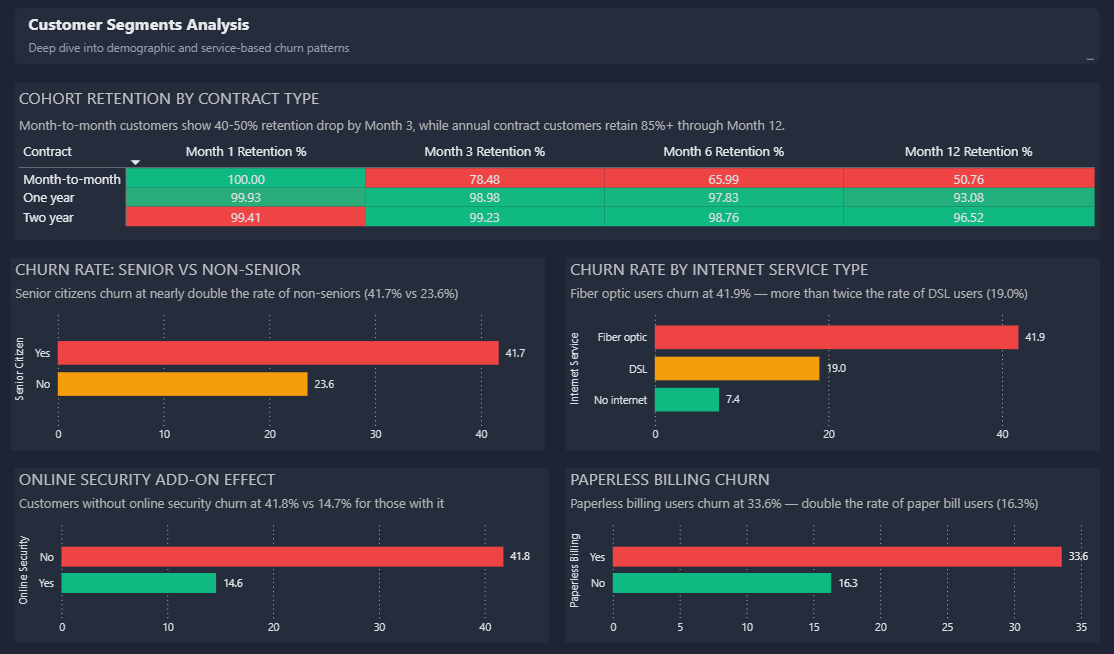

This screenshot's page, from the dashboard's own definition file:
{"tool":"powerbi","page":{"name":"Customer Segments","canvas":[1280,750],"ordinal":1},"visuals":[{"type":"textbox","title":"Customer Segments Analysis","box":[20,10,1240,65],"z":0},{"type":"barChart","title":"CHURN RATE: SENIOR VS NON-SENIOR","fields":{"Category":["00_raw_customer_data.SeniorCitizen"],"Y":["Table.Overall Churn Rate %"]},"box":[16,295,610,220],"z":3000},{"type":"clusteredBarChart","title":"CHURN RATE BY INTERNET SERVICE TYPE","fields":{"Category":["00_raw_customer_data.InternetService"],"Y":["Table.Overall Churn Rate %"]},"box":[650,295,610,220],"z":5000},{"type":"clusteredBarChart","title":"ONLINE SECURITY ADD-ON EFFECT","fields":{"Category":["00_raw_customer_data.OnlineSecurity"],"Y":["Table.Overall Churn Rate %"]},"box":[20,535,610,200],"z":9000},{"type":"clusteredBarChart","title":"PAPERLESS BILLING CHURN","fields":{"Category":["00_raw_customer_data.PaperlessBilling"],"Y":["Table.Overall Churn Rate %"]},"box":[650,535,610,200],"z":13000},{"type":"pivotTable","title":"COHORT RETENTION BY CONTRACT TYPE","fields":{"Rows":["00_raw_customer_data.Contract"],"Values":["00_raw_customer_data.Month 1 Retention %","00_raw_customer_data.Month 3 Retention %","00_raw_customer_data.Month 6 Retention %","00_raw_customer_data.Month 12 Retention %"]},"box":[20,95,1240,180],"z":15000}]}

Visuals, with their boxes in screenshot pixels (x1, y1, x2, y2), scaled from the page's 1280x750 canvas onto the 1114x654 screenshot:
"Customer Segments Analysis" textbox: rect(17, 9, 1097, 65)
"CHURN RATE: SENIOR VS NON-SENIOR" barChart: rect(14, 257, 545, 449)
"CHURN RATE BY INTERNET SERVICE TYPE" clusteredBarChart: rect(566, 257, 1097, 449)
"ONLINE SECURITY ADD-ON EFFECT" clusteredBarChart: rect(17, 467, 548, 641)
"PAPERLESS BILLING CHURN" clusteredBarChart: rect(566, 467, 1097, 641)
"COHORT RETENTION BY CONTRACT TYPE" pivotTable: rect(17, 83, 1097, 240)
